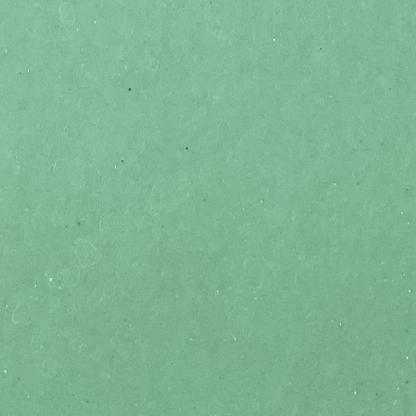clean: (98, 133, 157, 208)
